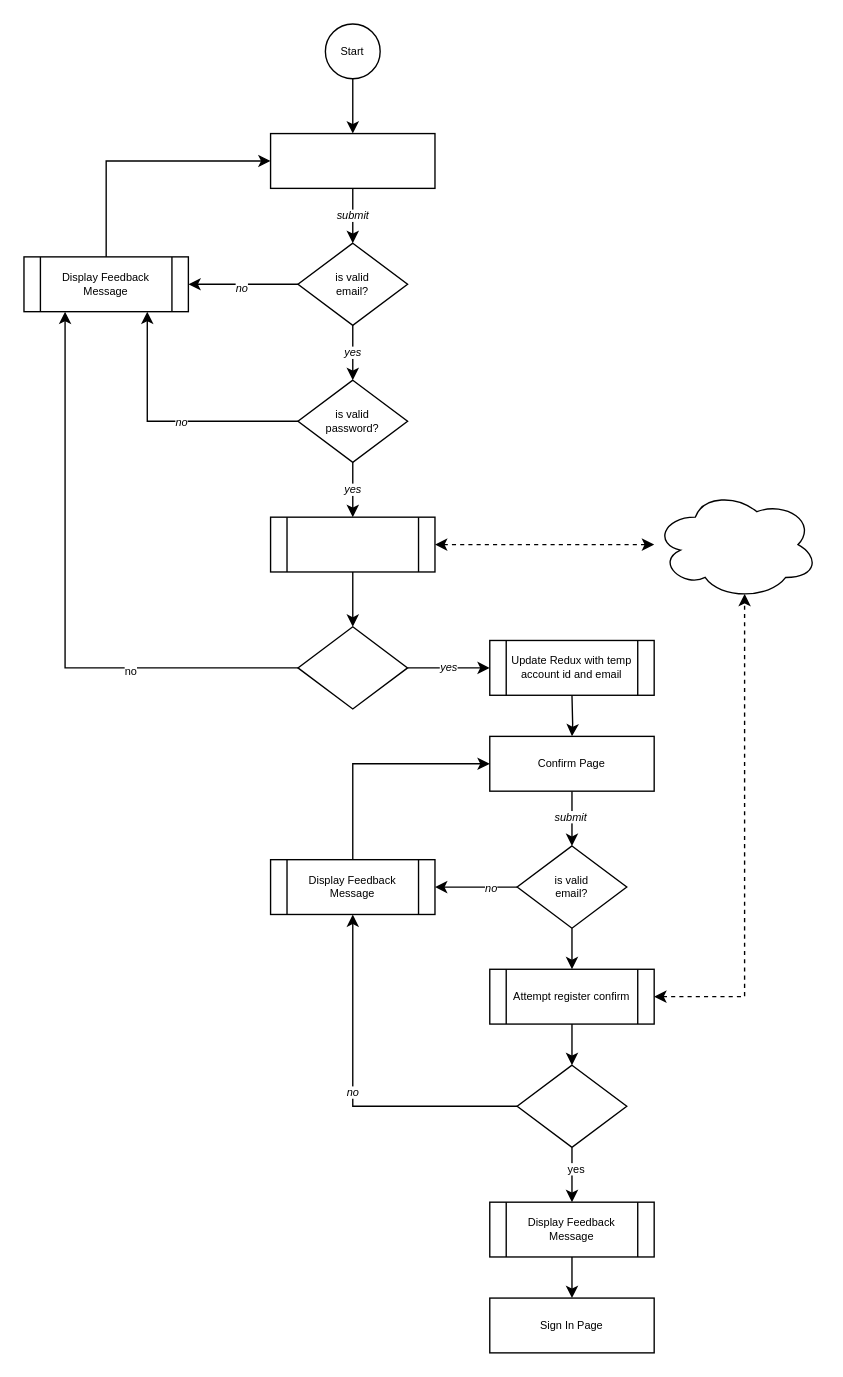
The diagram is 843 pixels wide and 1377 high, and some of its shapes have lost their labels. The centre of each missing label's shape, as x and y in pixels:
Attempt create new user: pixel 352 544
AWS Cognito: pixel 736 543
is valid registration?: pixel 571 1105
Register Page: pixel 352 160
user created?: pixel 352 667
